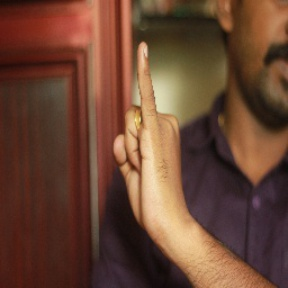I: (110, 40, 188, 233)
